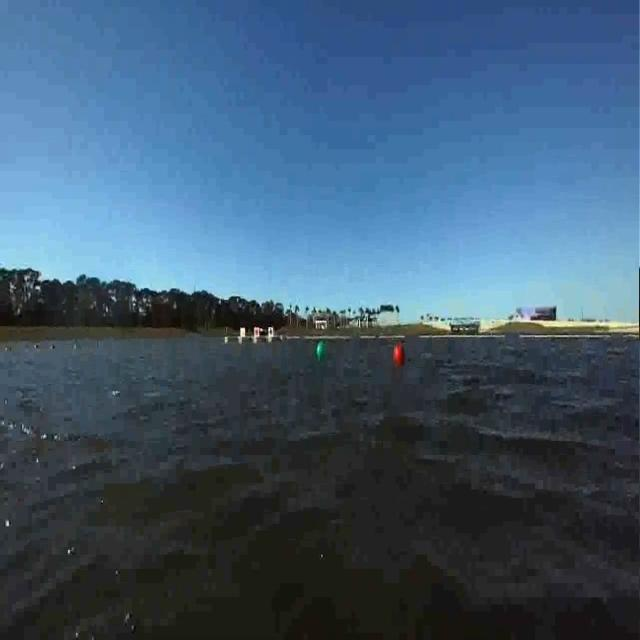green-buoy: (316, 337, 329, 365)
red-buoy: (394, 345, 404, 364)
